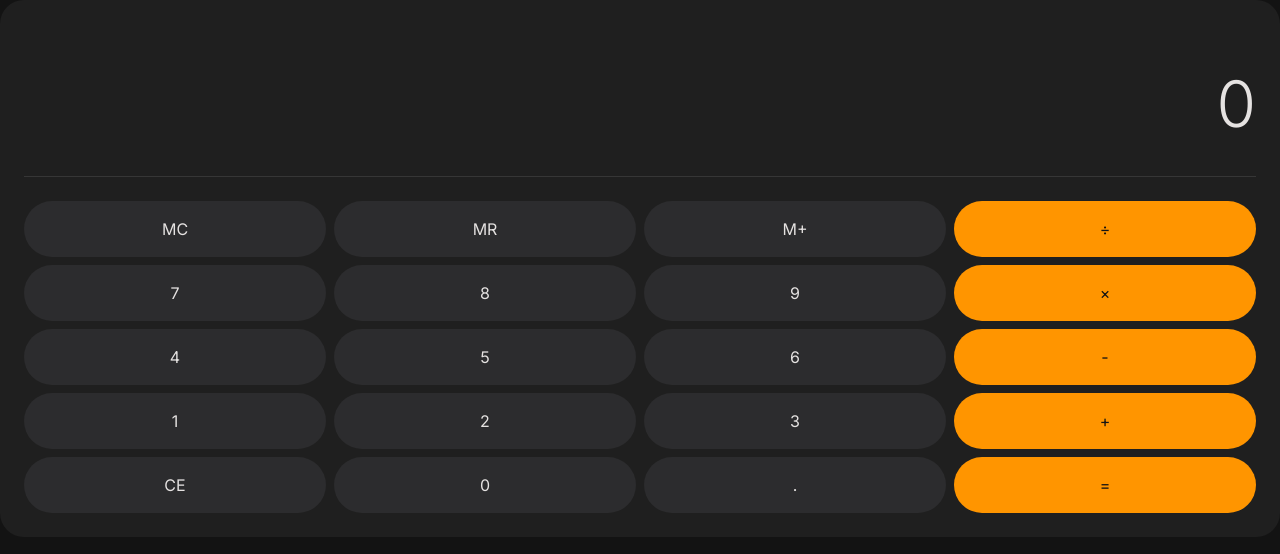
it: CalculatorSection › multiplies two numbers using the keypad
Click the button with test id "key-6" at coordinates (795, 357), box [644, 329, 946, 385]
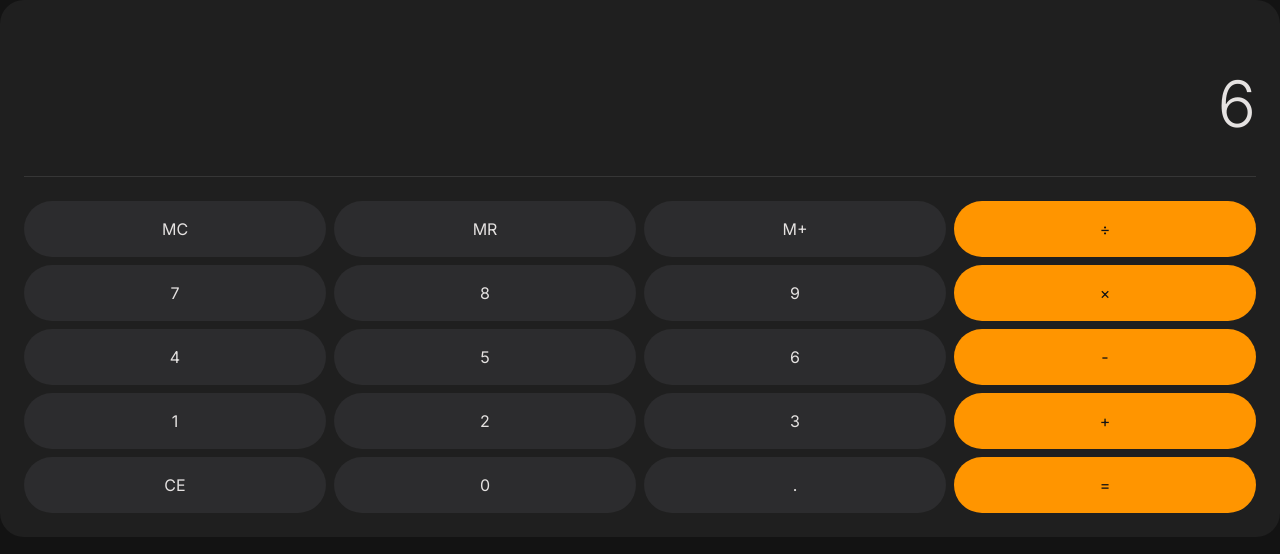
Click the button with test id "key-×" at coordinates (1105, 293), box [954, 265, 1256, 321]
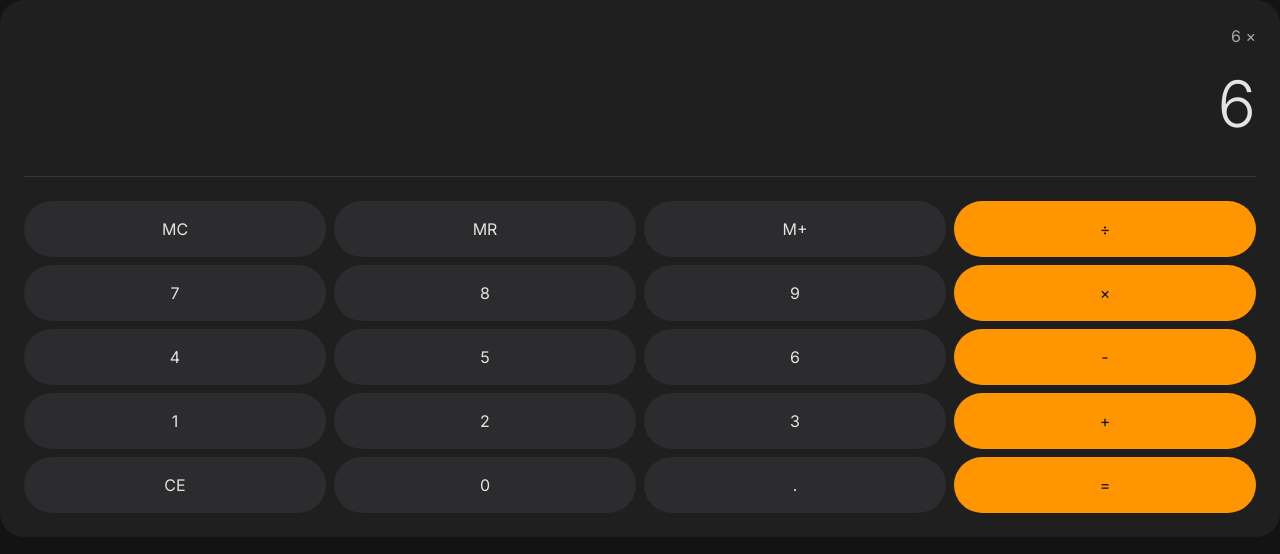
Click the button with test id "key-7" at coordinates (175, 293), box [24, 265, 326, 321]
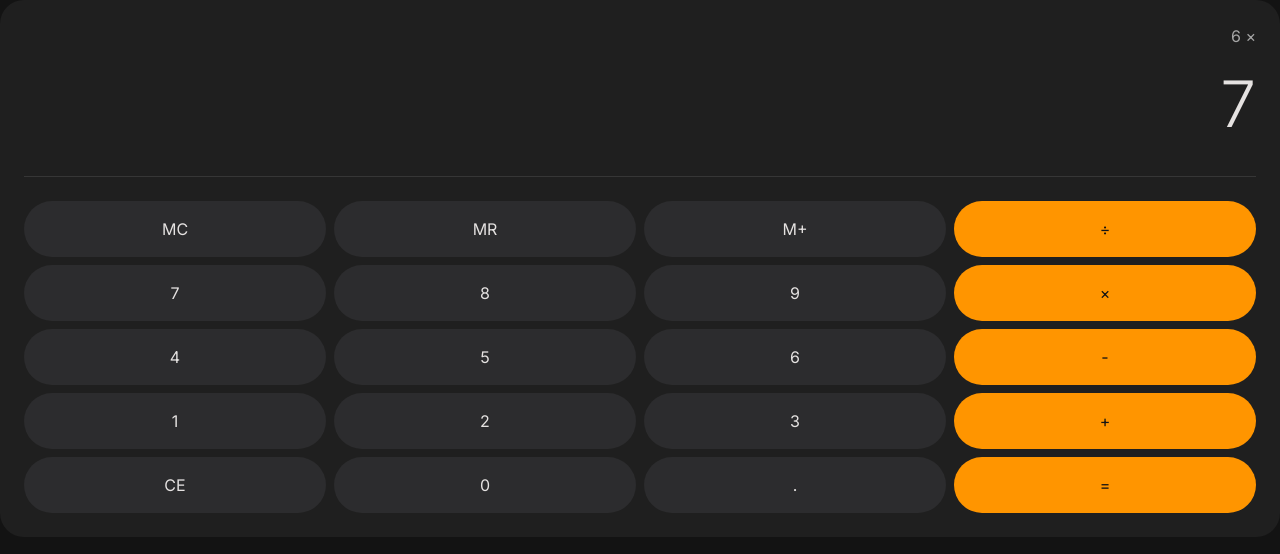
Click the button with test id "key-=" at coordinates (1105, 485), box [954, 457, 1256, 513]
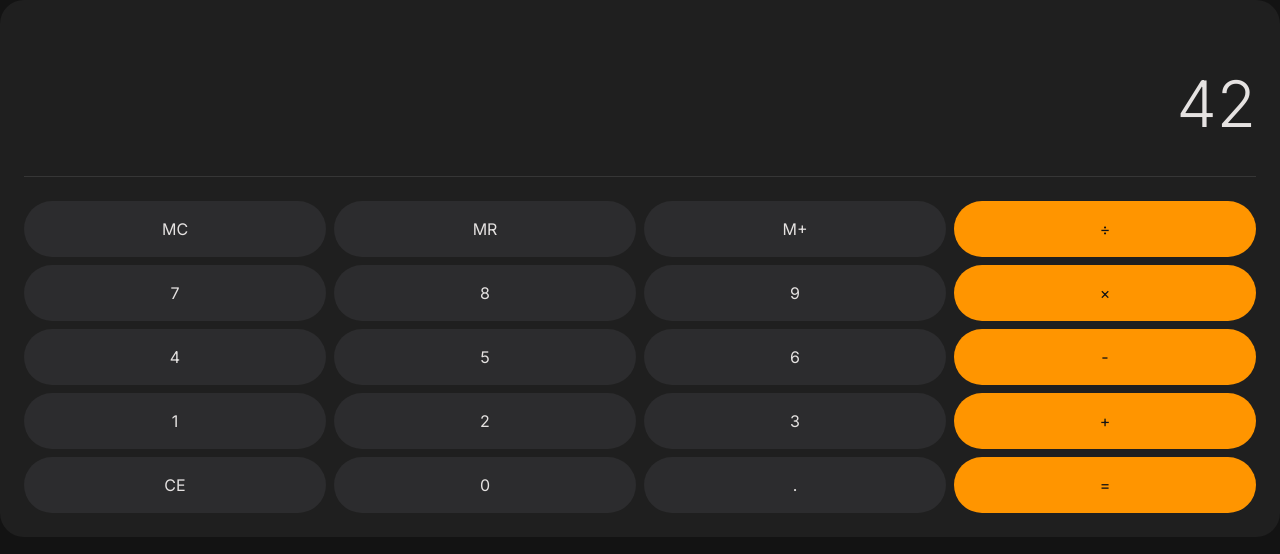
Result: the text with test id "calculator-display" reads "42" at [1176, 65, 1256, 142]
